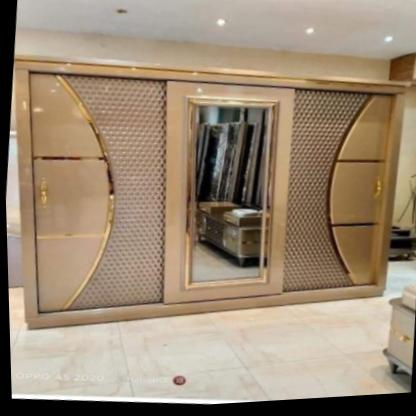Ceramic floor: (9, 313, 388, 406)
Closet: (14, 62, 405, 330)
